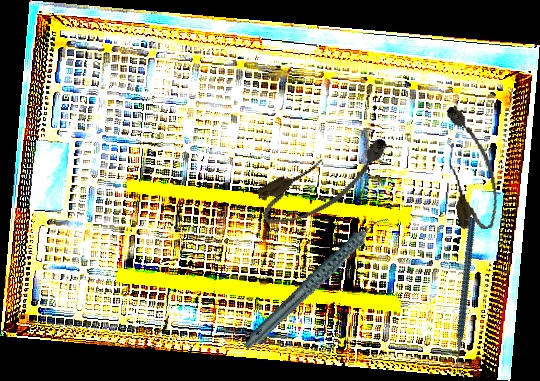Cannula: (251, 129, 401, 235), (438, 101, 504, 234)
Chopper: (406, 216, 530, 381)
Handpiece: (222, 213, 411, 352)
